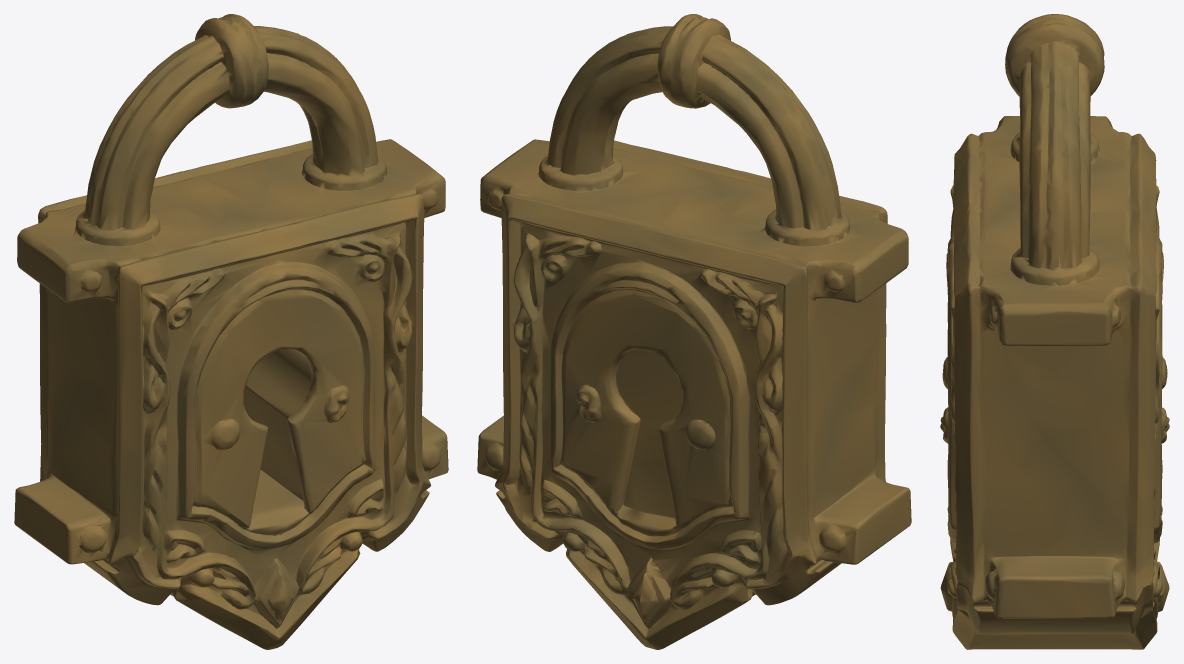
File: ornate-padlock.glb
3 views of the same model, side by side, from view 1: azimuth 30°, elevation 25°; view 2: azimuth 150°, elevation 25°; view 3: azimuth 270°, elevation 25° (orthographic). The views are drawn at different scales.
Parts seen in each view (by area): view 1: OrnatePadlockBody, OrnatePadlockArch; view 2: OrnatePadlockBody, OrnatePadlockArch; view 3: OrnatePadlockBody, OrnatePadlockArch.
Boxes of the visible parts, x1=… form: OrnatePadlockBody: x1=14, y1=139, x2=448, y2=649; OrnatePadlockArch: x1=84, y1=14, x2=377, y2=228; OrnatePadlockBody: x1=477, y1=139, x2=911, y2=649; OrnatePadlockArch: x1=547, y1=14, x2=841, y2=228; OrnatePadlockBody: x1=940, y1=116, x2=1169, y2=649; OrnatePadlockArch: x1=1005, y1=14, x2=1104, y2=268.
Size of the model in its own units: 0.6972 by 1.05 by 0.3471.
